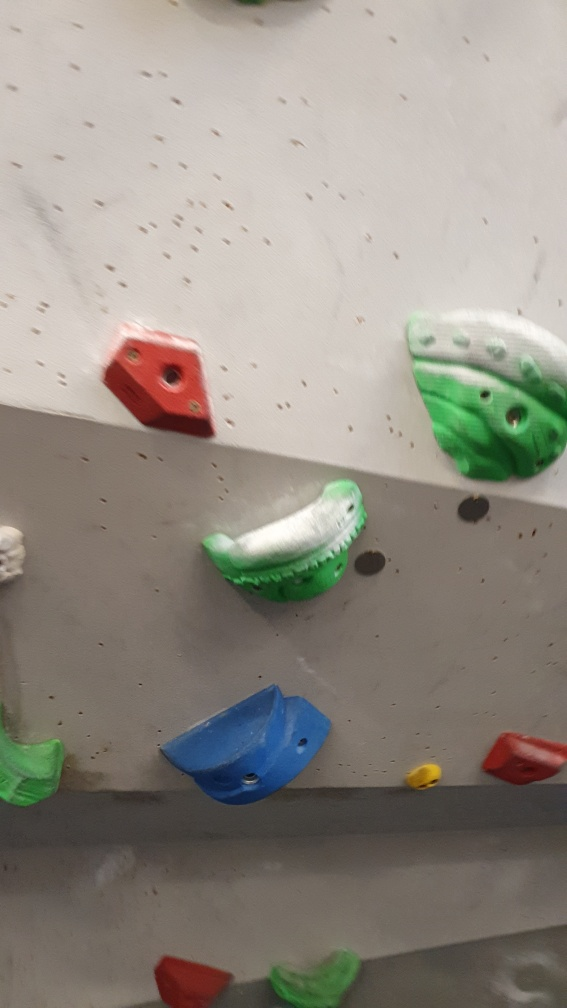Crimp: (95, 315, 219, 444), (478, 727, 567, 792)
Hand Start: (451, 490, 494, 523), (351, 543, 389, 580)
Jug: (402, 301, 567, 482), (190, 476, 373, 605), (1, 720, 75, 817), (269, 946, 368, 1008)
Pinch: (150, 677, 336, 806)
